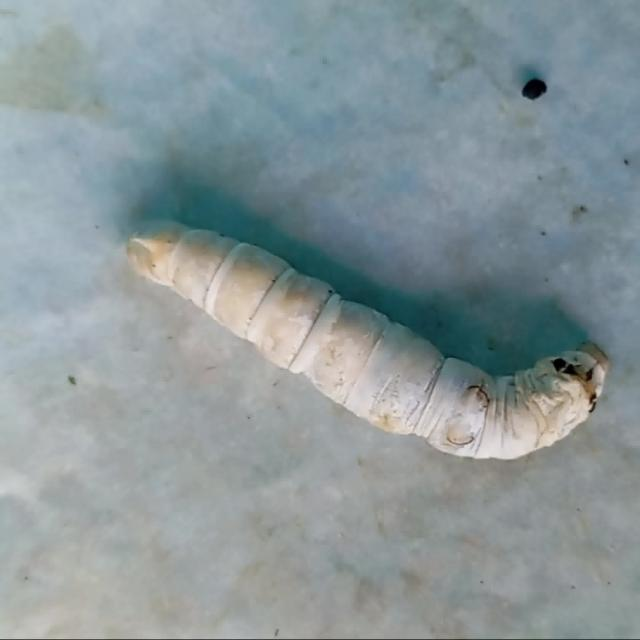Grasserie: (118, 204, 612, 476)
